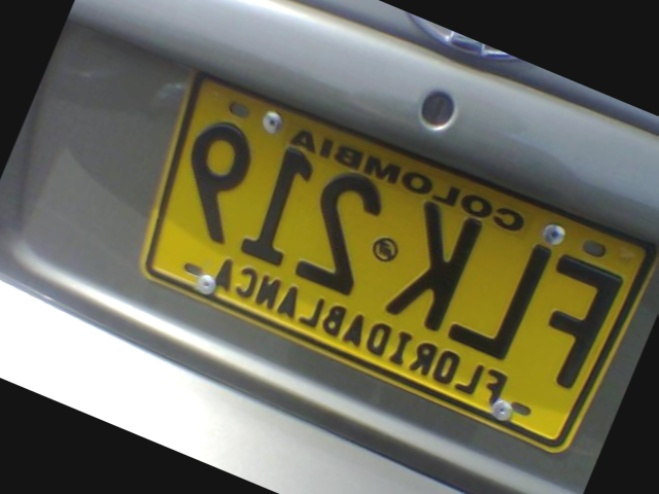placas: (109, 48, 659, 464)
